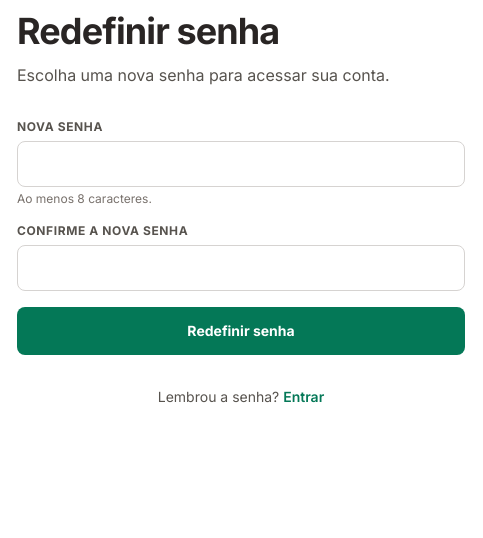
RedefinirSenha › mostra mensagem clara e um caminho para pedir outro link quando o token é inválido
This screenshot has width=483, height=538.
Type "senhaforte123" into the password field labelled "Nova senha" at (241, 164), box x1=17 y1=141 x2=465 y2=187
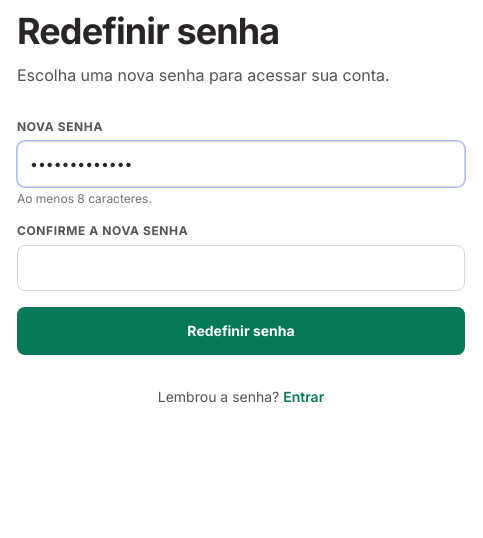
Type "senhaforte123" into the password field labelled "Confirme a nova senha" at (241, 268), box x1=17 y1=245 x2=465 y2=291
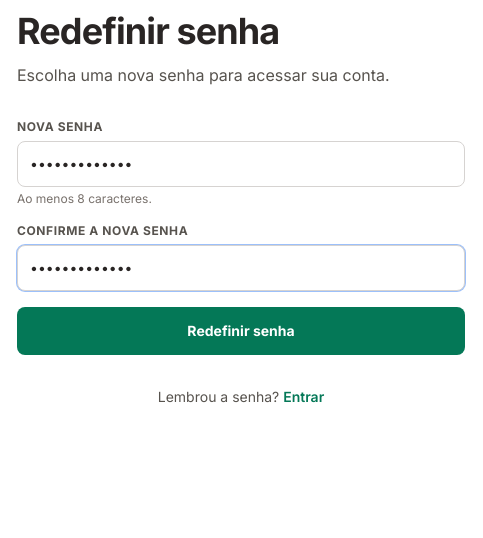
Click the button "Redefinir senha" at (241, 331), box x1=17 y1=307 x2=465 y2=355
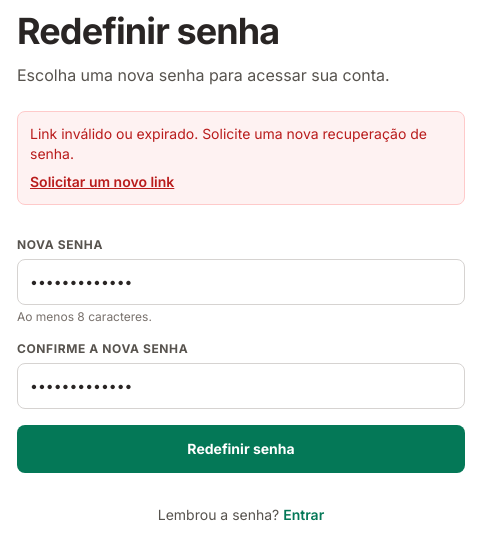
Check: the message shows "Link inválido ou expirado", box x1=30 y1=125 x2=427 y2=162
